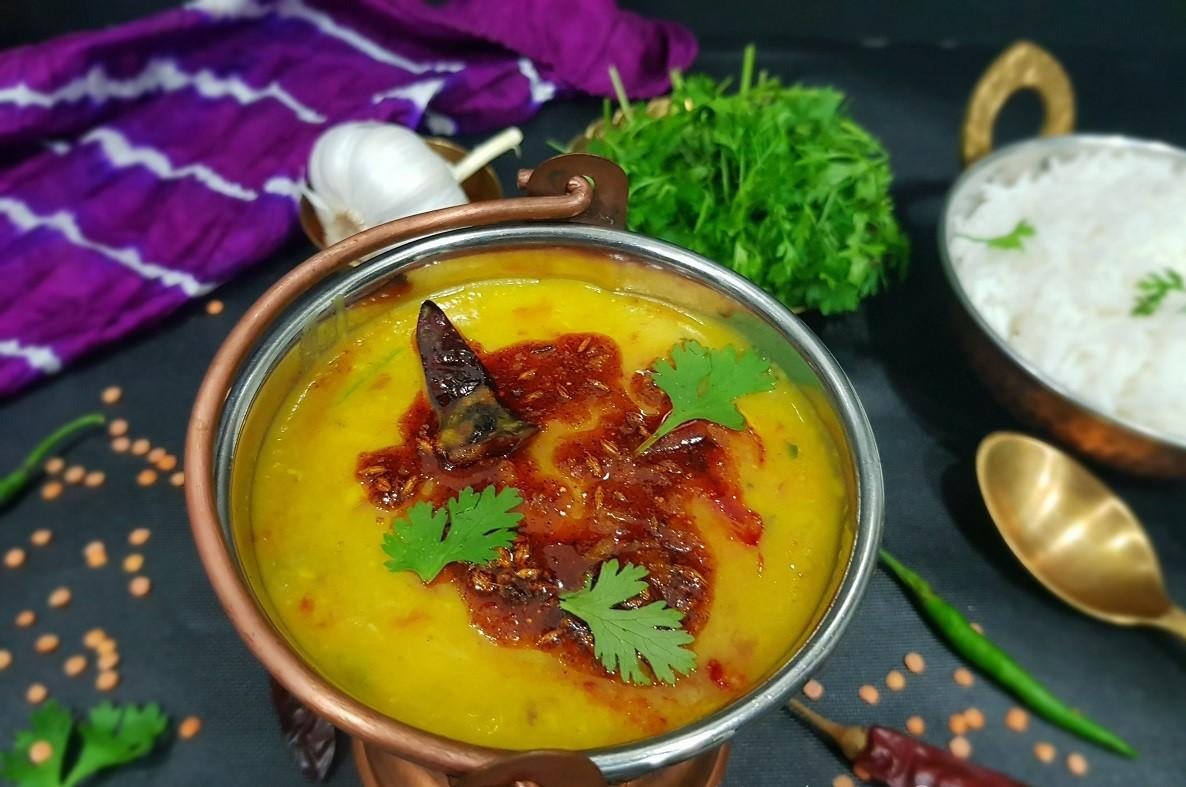Dal: (249, 274, 841, 749)
WhiteRice: (953, 155, 1186, 440)
